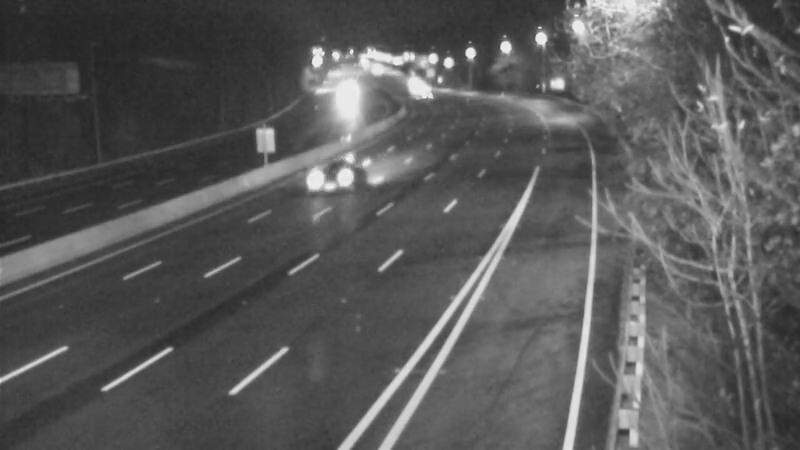vehicle: (285, 141, 365, 221), (322, 73, 372, 123)
